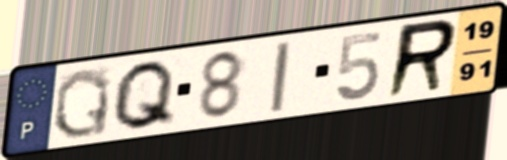5: (333, 28, 385, 104)
8: (198, 48, 248, 121)
I: (268, 38, 294, 115)
Q: (108, 57, 179, 133), (50, 65, 113, 141)
R: (382, 16, 461, 102)
